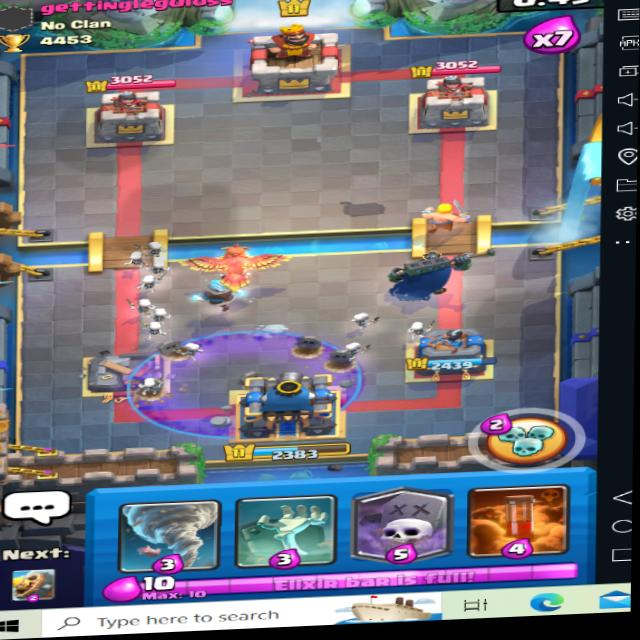royal-recruits: (320, 184, 398, 228)
